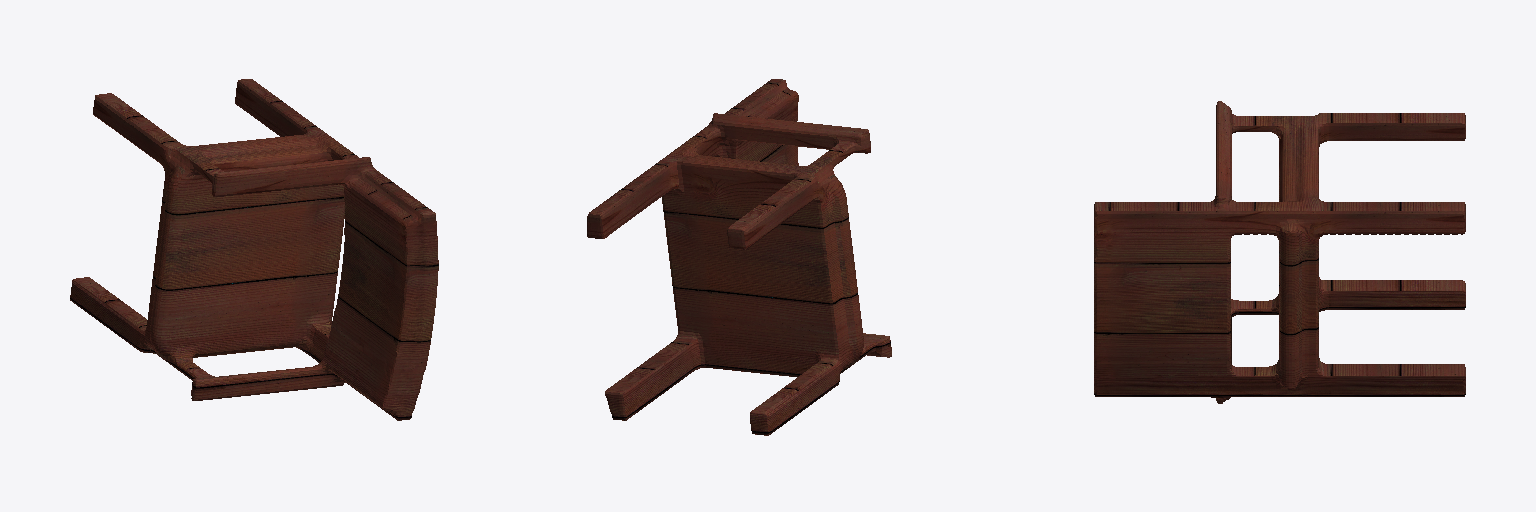
3 renders of one model, left to right at view 1: azimuth 30°, elevation 25°; view 2: azimuth 150°, elevation 25°; view 3: azimuth 270°, elevation 25°, orthographic.
Size of the model in its own units: 0.5577 by 0.6486 by 0.903.
1 materials, 1 textured.